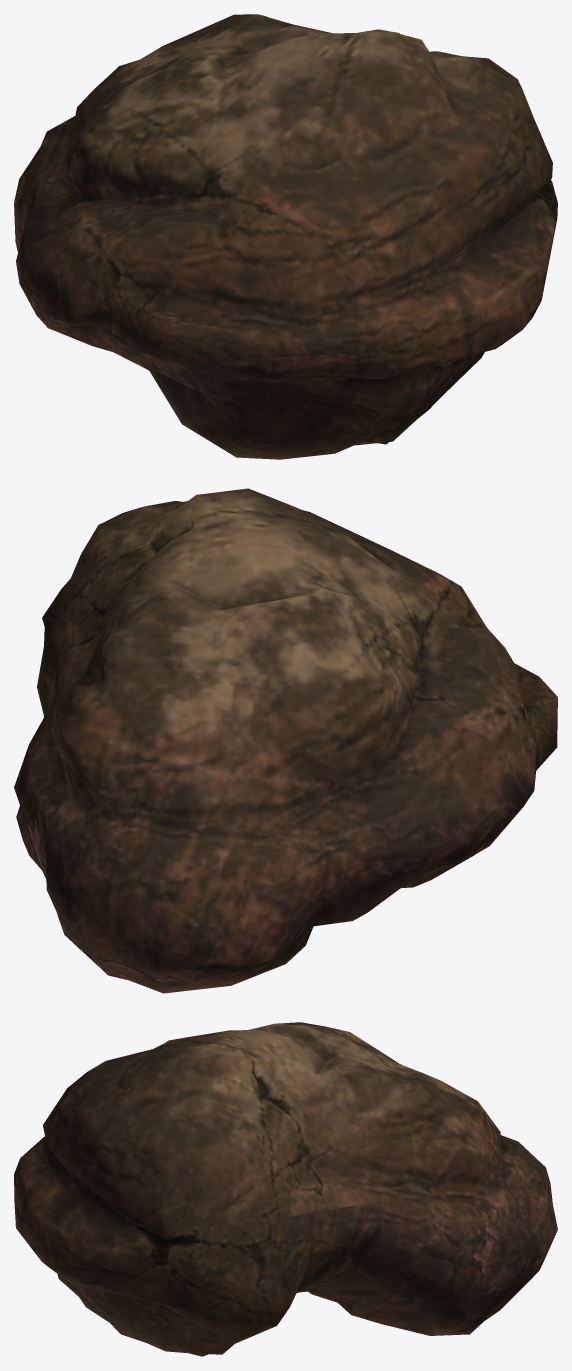
Rendered from rock_red_small06.dae.
3 renders of one model, top to bottom at view 1: azimuth 30°, elevation 25°; view 2: azimuth 150°, elevation 25°; view 3: azimuth 270°, elevation 25°, orthographic. The views are drawn at different scales.
Visible parts, largest first — view 1: Mesh04; view 2: Mesh04; view 3: Mesh04.
Boxes of the visible parts, x1,y1,x2,y2 form: Mesh04: (14, 14, 557, 459); Mesh04: (14, 488, 557, 993); Mesh04: (14, 1022, 557, 1356).
Bounding box in the file's own units: 1.72 × 1.28 × 2.
